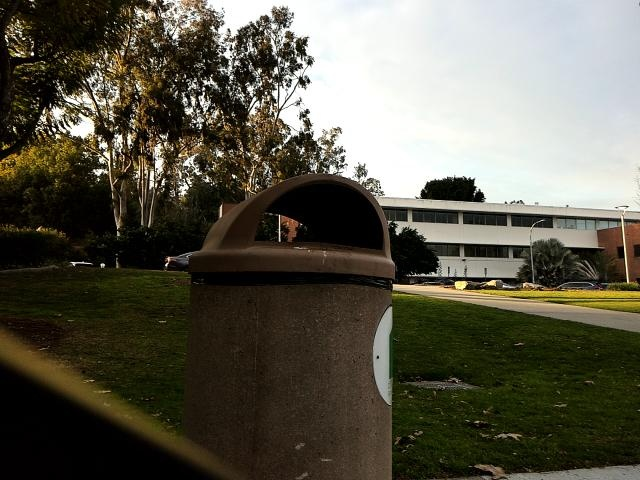trashcan: (184, 170, 412, 480)
